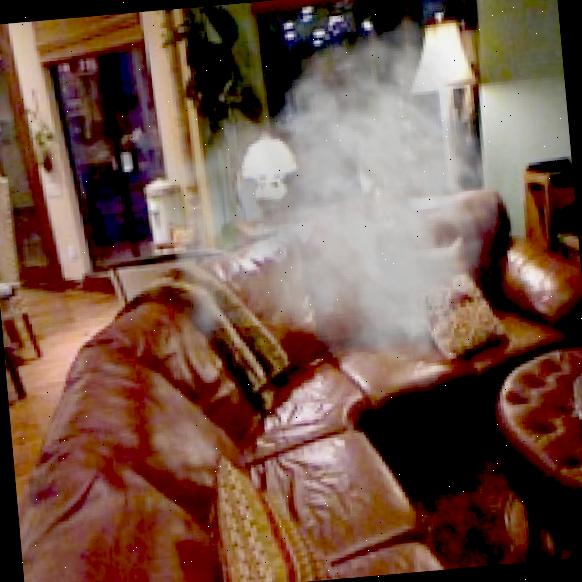smoke: (122, 9, 517, 422)
